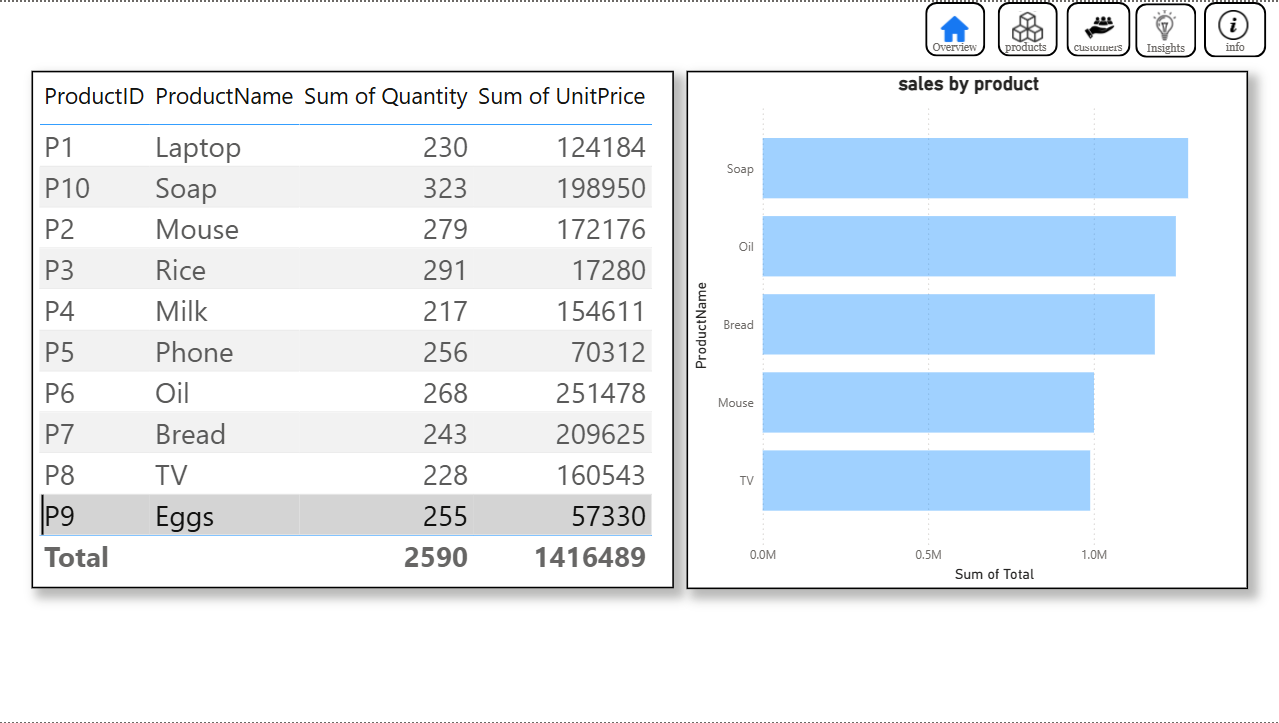

The page's visual inventory and layout, read from the dashboard file:
{"tool":"powerbi","page":{"name":"product","canvas":[1280,720],"ordinal":1},"visuals":[{"type":"tableEx","fields":{"Values":["Sales.ProductID","Products.ProductName","Sum(Sales.Quantity)","Sum(Sales.UnitPrice)"]},"box":[32.5,68.8,642.5,517.5],"z":1000},{"type":"barChart","title":"sales by product","fields":{"Category":["Products.ProductName"],"Y":["Sum(Sales.Total)"]},"box":[687.5,68.8,561.2,518.8],"z":2000},{"type":"actionButton","title":"home button","box":[926.7,0,60,54.4],"z":3000},{"type":"actionButton","title":"products button","box":[998.9,0,60,54.4],"z":4000},{"type":"actionButton","title":"customers button","box":[1068,0,64,54.7],"z":5000},{"type":"actionButton","title":"insights button","box":[1136.7,1.1,61.1,54.4],"z":6000},{"type":"actionButton","title":"info button","box":[1205.6,0,62.2,55.6],"z":7000}]}

Visuals, with their boxes in screenshot pixels (x1, y1, x2, y2), scaled from the page's 1280x720 canvas onto the 1279x723 screenshot:
tableEx - Sales.ProductID x Products.ProductName: [32, 69, 674, 589]
"sales by product" barChart: [687, 69, 1248, 590]
"home button" actionButton: [926, 0, 986, 55]
"products button" actionButton: [998, 0, 1058, 55]
"customers button" actionButton: [1067, 0, 1131, 55]
"insights button" actionButton: [1136, 1, 1197, 56]
"info button" actionButton: [1205, 0, 1267, 56]
